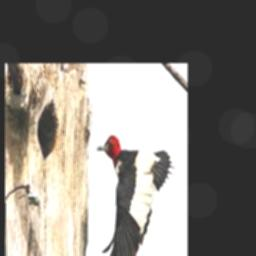Woodpecker: (97, 135, 175, 256)
